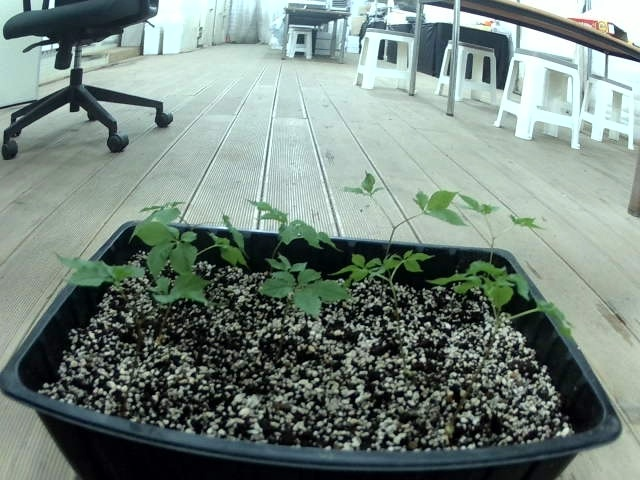수확기: (245, 263, 347, 337), (44, 236, 143, 299), (131, 218, 215, 279), (141, 272, 227, 324), (463, 259, 531, 314), (275, 213, 347, 258), (415, 176, 467, 233), (200, 199, 255, 251), (436, 255, 503, 297), (521, 282, 566, 343), (241, 188, 303, 230), (133, 185, 191, 229), (376, 243, 432, 284), (198, 232, 248, 277), (247, 250, 306, 287), (338, 248, 383, 296), (502, 193, 547, 237), (348, 165, 395, 207), (458, 185, 511, 220)
